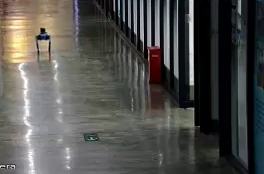robot dog: (33, 27, 53, 56)
